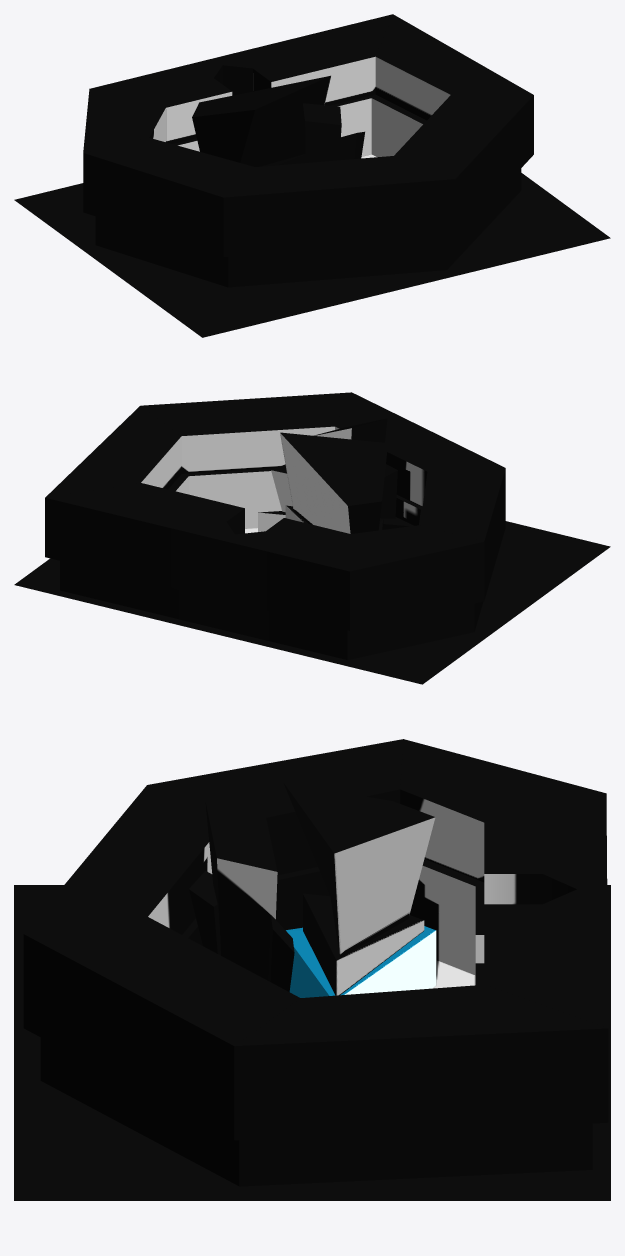
The model's file is level_a_2_shadowmapped.fbx.
The picture shows the model from 3 angles, top to bottom: view 1: azimuth 30°, elevation 25°; view 2: azimuth 150°, elevation 25°; view 3: azimuth 270°, elevation 25°; orthographic projection. The views are drawn at different scales.
Parts seen in each view (by area): view 1: level_a_wall6, level_a_floor, level_a_wall5, level_a_build1, level_a_build2; view 2: level_a_wall6, level_a_wall5, level_a_floor, level_a_build1, level_a_build2; view 3: level_a_wall6, level_a_wall5, level_a_floor, level_a_build1, level_a_build2.
Part boxes in pixels (box(x1,y1,x2,y2)): level_a_wall6: box(83, 14, 533, 256); level_a_floor: box(14, 154, 610, 337); level_a_wall5: box(95, 94, 521, 287); level_a_build1: box(192, 75, 330, 166); level_a_build2: box(303, 103, 364, 162); level_a_wall6: box(45, 392, 505, 630); level_a_wall5: box(60, 468, 483, 660); level_a_floor: box(14, 521, 610, 684); level_a_build1: box(280, 432, 387, 533); level_a_build2: box(258, 418, 414, 531); level_a_wall6: box(23, 739, 608, 1140); level_a_wall5: box(40, 859, 592, 1186); level_a_floor: box(14, 885, 610, 1200); level_a_build1: box(283, 782, 436, 997); level_a_build2: box(189, 801, 294, 991).
Bounding box in the file's own units: 12.81 × 4.76 × 10.24.
Materials: 7 (7 with a texture image).
